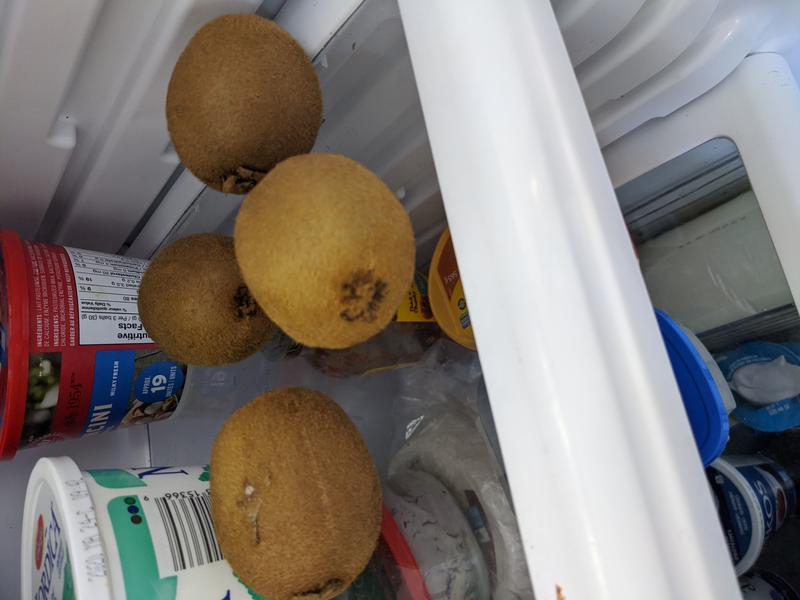kiwi: (208, 387, 385, 600), (233, 151, 417, 350), (165, 13, 325, 194), (137, 233, 277, 368)
